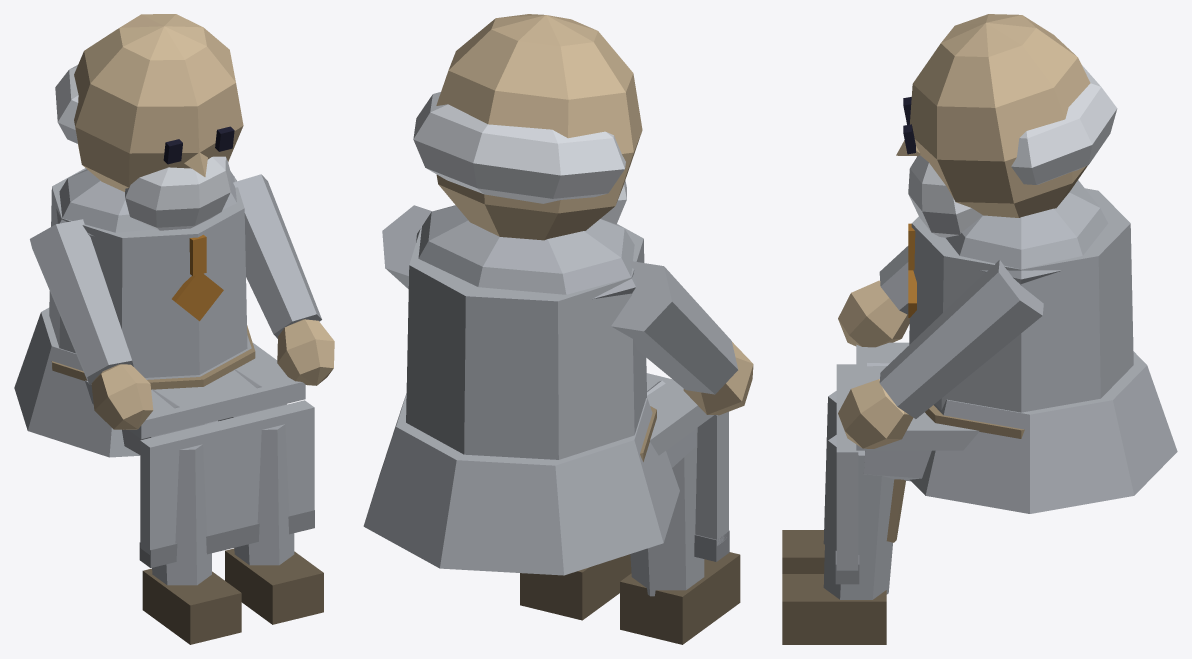
Rendered from aldous_seated_sober.glb.
The picture shows the model from 3 angles, left to right: view 1: azimuth 30°, elevation 25°; view 2: azimuth 150°, elevation 25°; view 3: azimuth 270°, elevation 25°; orthographic projection. The views are drawn at different scales.
Visible parts, largest first — view 1: Torso, Head, LegR, LegL, ArmR, ArmL; view 2: Torso, Head, LegR, ArmR, LegL, ArmL; view 3: Torso, Head, LegL, ArmL, LegR, ArmR.
Boxes of the visible parts, x1,y1,x2,y2 form: Torso: (14,168,255,457); Head: (55,14,243,230); LegR: (85,380,241,644); LegL: (204,343,323,624); ArmR: (30,219,153,429); ArmL: (233,174,334,385); Torso: (363,205,679,575); Head: (413,14,642,240); LegR: (620,373,740,644); ArmR: (611,261,753,415); LegL: (520,554,631,620); ArmL: (382,205,431,288); Torso: (886,180,1177,542); Head: (896,14,1117,237); LegL: (782,386,979,644); ArmL: (838,259,1043,448); LegR: (782,342,909,573); ArmR: (838,246,909,347).
Bounding box in the file's own units: 0.6945 × 1.49 × 0.91.
